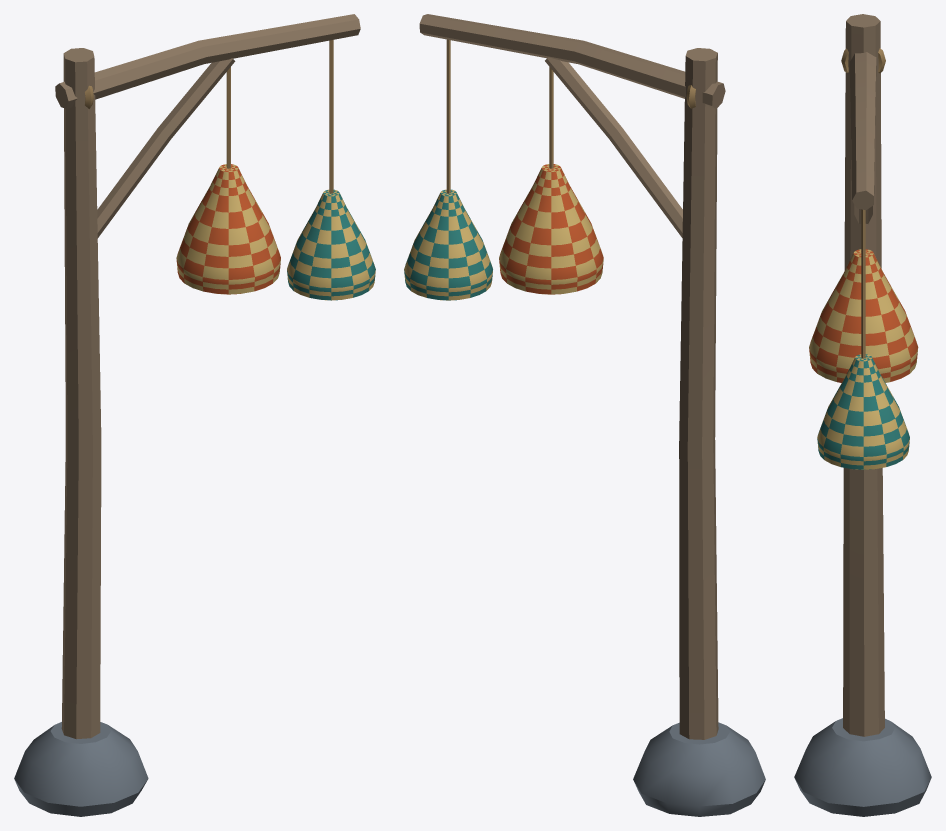
The model's file is deco_pod_light_post.fbx.
The picture shows the model from 3 angles, left to right: view 1: azimuth 30°, elevation 25°; view 2: azimuth 150°, elevation 25°; view 3: azimuth 270°, elevation 25°; orthographic projection. The views are drawn at different scales.
Visible parts, largest first — view 1: PodLight_Post_Post, PodLight_Post_Arm, PodLight_Post_PodA, PodLight_Post_Footing, PodLight_Post_PodB, PodLight_Post_Cords; view 2: PodLight_Post_Post, PodLight_Post_Arm, PodLight_Post_PodA, PodLight_Post_Footing, PodLight_Post_PodB, PodLight_Post_Cords; view 3: PodLight_Post_Post, PodLight_Post_Footing, PodLight_Post_PodA, PodLight_Post_PodB, PodLight_Post_Arm, PodLight_Post_Cords.
Part boxes in pixels (left/top/right/bottom): PodLight_Post_Post: left=61, top=48, right=101, bottom=739; PodLight_Post_Arm: left=55, top=14, right=360, bottom=238; PodLight_Post_PodA: left=176, top=164, right=280, bottom=294; PodLight_Post_Footing: left=14, top=722, right=148, bottom=816; PodLight_Post_PodB: left=287, top=189, right=375, bottom=300; PodLight_Post_Cords: left=85, top=40, right=333, bottom=193; PodLight_Post_Post: left=679, top=48, right=718, bottom=739; PodLight_Post_Arm: left=419, top=14, right=725, bottom=237; PodLight_Post_PodA: left=499, top=164, right=603, bottom=294; PodLight_Post_Footing: left=633, top=722, right=765, bottom=816; PodLight_Post_PodB: left=404, top=189, right=492, bottom=300; PodLight_Post_Cords: left=446, top=39, right=695, bottom=193; PodLight_Post_Post: left=843, top=14, right=884, bottom=736; PodLight_Post_Footing: left=794, top=718, right=931, bottom=816; PodLight_Post_PodA: left=809, top=249, right=918, bottom=382; PodLight_Post_PodB: left=817, top=354, right=909, bottom=469; PodLight_Post_Arm: left=849, top=52, right=876, bottom=223; PodLight_Post_Cords: left=841, top=48, right=885, bottom=358.
Size of the model in its own units: 145 by 295 by 47.89.
